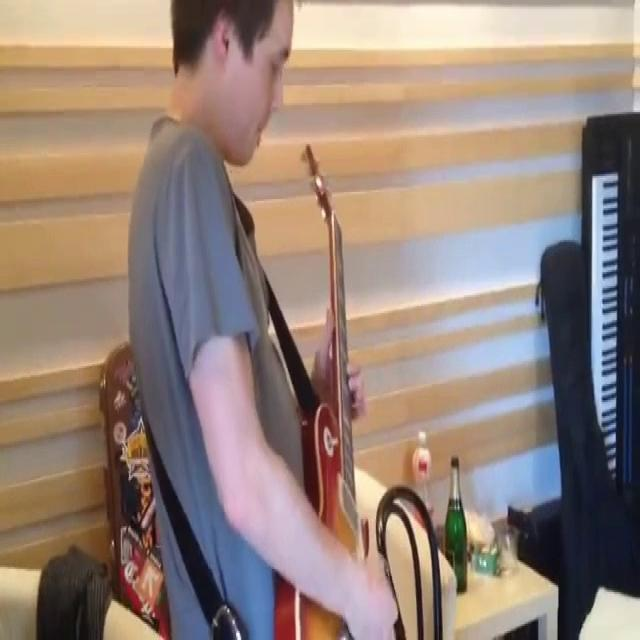Guitar: (271, 132, 368, 640)
